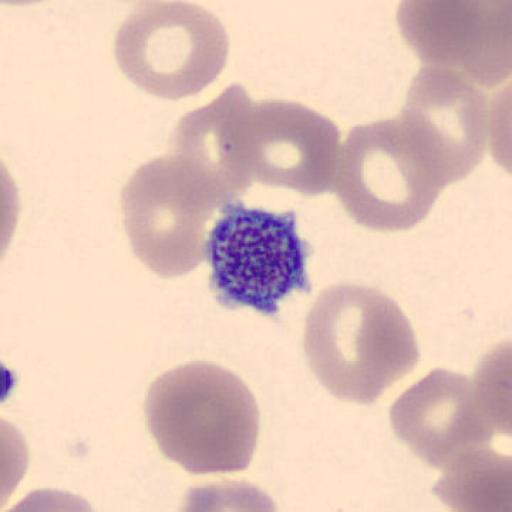Platelet: (203, 204, 316, 318)
RBC: (300, 280, 421, 408), (142, 358, 262, 480), (331, 113, 447, 233), (166, 83, 262, 215), (119, 156, 218, 280), (112, 0, 232, 102), (230, 97, 342, 199), (398, 65, 489, 185), (445, 342, 512, 503), (395, 0, 511, 87), (432, 389, 512, 512), (388, 366, 482, 468), (465, 336, 512, 486), (394, 0, 497, 66), (446, 0, 512, 87), (431, 444, 512, 512), (473, 335, 512, 442), (175, 476, 280, 512), (0, 413, 30, 512), (0, 485, 102, 512), (488, 79, 512, 181), (0, 157, 21, 267), (0, 0, 64, 6)
